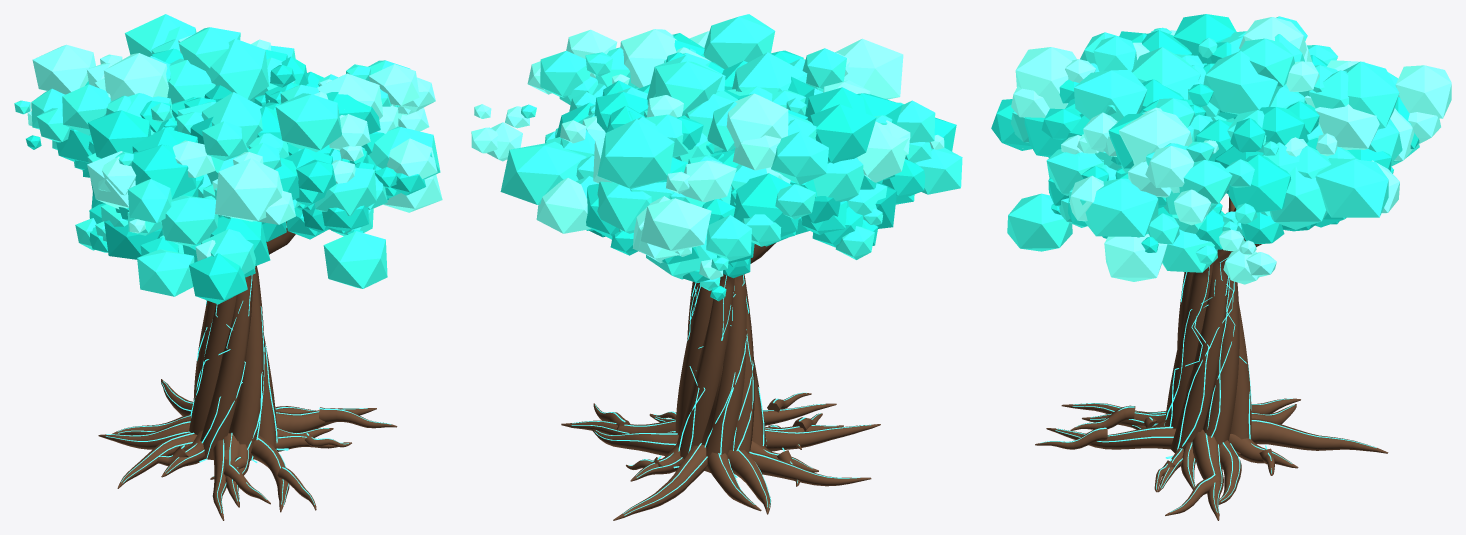
File: arvore-central-leve.glb
3 renders of one model, left to right at view 1: azimuth 30°, elevation 25°; view 2: azimuth 150°, elevation 25°; view 3: azimuth 270°, elevation 25°, orthographic. The views are drawn at different scales.
Visible parts, largest first — view 1: copa_3, copa_4, copa_2, feixe_4, feixe_5, copa_1, feixe_3, feixe_6, raiz.007, raiz.001, raiz.017, raiz.008 (+7 smaller); view 2: copa_3, copa_4, copa_2, feixe_1, feixe_2, copa_1, feixe_0, raiz.005, feixe_3, raiz.008, raiz.011, raiz.002 (+6 smaller); view 3: copa_3, copa_4, copa_2, feixe_6, feixe_0, feixe_5, raiz.005, raiz.017, feixe_1, raiz.001, raiz.002, raiz.004 (+4 smaller).
Boxes of the visible parts, x1,y1,x2,y2 form: copa_3: (14,14,440,296); copa_4: (27,35,442,260); copa_2: (26,48,425,304); feixe_4: (200,228,295,459); feixe_5: (232,266,264,460); copa_1: (90,85,388,259); feixe_3: (189,295,236,434); feixe_6: (258,336,277,448); raiz.007: (98,419,190,449); raiz.001: (275,408,376,432); raiz.017: (251,435,289,512); raiz.008: (117,432,197,488); copa_3: (500,14,962,290); copa_4: (471,29,944,279); copa_2: (556,33,956,301); feixe_1: (677,274,734,458); feixe_2: (704,243,775,472); copa_1: (589,76,896,278); feixe_0: (675,282,713,434); raiz.005: (613,444,707,520); feixe_3: (731,274,754,453); raiz.008: (749,450,871,486); raiz.011: (765,424,880,450); raiz.002: (592,429,678,455); copa_3: (1007,16,1419,272); copa_4: (1011,17,1451,284); copa_2: (991,14,1419,252); feixe_6: (1170,244,1261,452); feixe_0: (1203,278,1239,445); feixe_5: (1165,263,1213,428); raiz.005: (1251,418,1388,453); raiz.017: (1046,426,1175,449); feixe_1: (1230,208,1251,453); raiz.001: (1192,429,1223,520); raiz.002: (1218,440,1241,504); raiz.004: (1229,434,1298,468).
Size of the model in its own units: 45.27 by 45.98 by 46.5.
